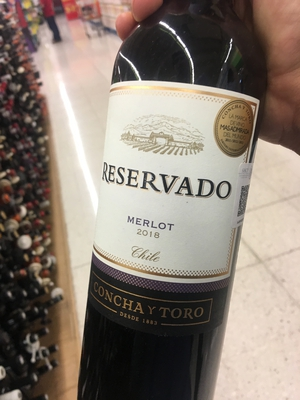reservado merlot: (73, 15, 267, 376)
